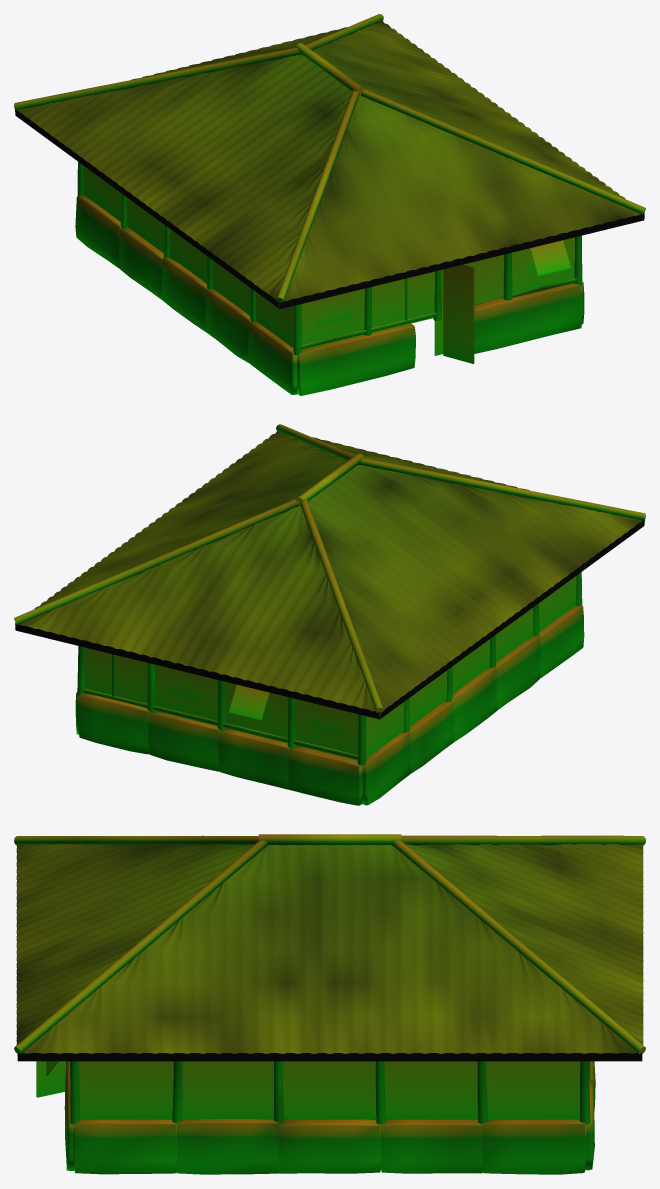
File: house_lane_c.glb
The picture shows the model from 3 angles, top to bottom: view 1: azimuth 30°, elevation 25°; view 2: azimuth 150°, elevation 25°; view 3: azimuth 270°, elevation 25°; orthographic projection. The views are drawn at different scales.
Visible parts, largest first — view 1: house_lane_c; view 2: house_lane_c; view 3: house_lane_c.
Boxes of the visible parts, x1,y1,x2,y2 form: house_lane_c: [14, 14, 645, 395]; house_lane_c: [14, 424, 645, 805]; house_lane_c: [14, 834, 645, 1174].
Size of what is drawn, in the model's own units: 7.91 by 4.45 by 9.91.
